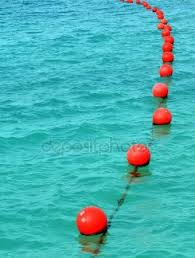buoy: (78, 206, 110, 239), (127, 144, 150, 166), (153, 108, 173, 125), (152, 84, 169, 98), (158, 65, 174, 76), (164, 34, 175, 42), (162, 42, 173, 50), (163, 53, 174, 61), (162, 30, 172, 35), (160, 18, 167, 24), (159, 22, 166, 27), (162, 26, 173, 29)
